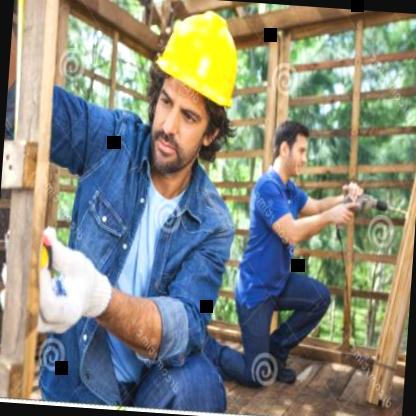head: (269, 112, 313, 183)
helmet: (135, 0, 253, 189)
